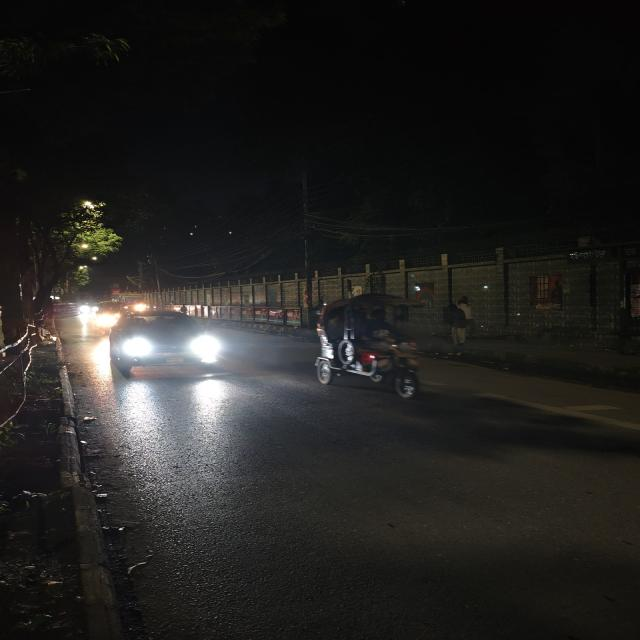car: (101, 309, 226, 381)
pedestrian: (444, 295, 481, 351)
rickshaw: (306, 291, 436, 405)
